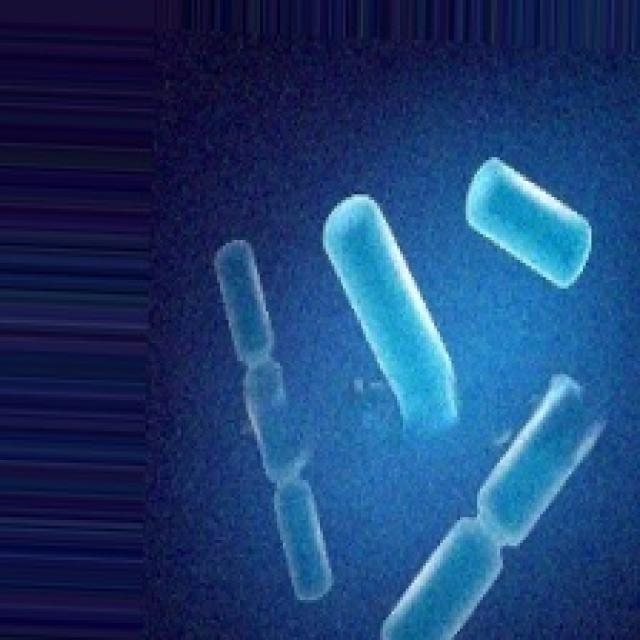Rod_bacteria: (374, 369, 609, 637), (209, 234, 334, 600), (320, 189, 460, 440)
